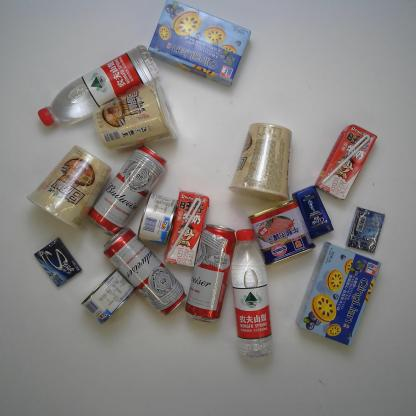Alcohol: (102, 227, 190, 319), (87, 143, 168, 237), (185, 222, 237, 325)
Canned Food: (248, 198, 317, 267), (79, 268, 137, 326), (137, 192, 180, 246)
Dessert: (294, 240, 383, 347), (148, 0, 252, 88)
Drink: (37, 44, 160, 126), (230, 226, 275, 360)
Gum: (33, 236, 83, 289), (344, 206, 386, 254)
Instant Noodles: (26, 144, 114, 232), (91, 78, 180, 152), (227, 121, 293, 201)
Milk: (314, 123, 378, 203), (163, 189, 210, 269)
Personal Hygiene: (292, 184, 334, 240)
